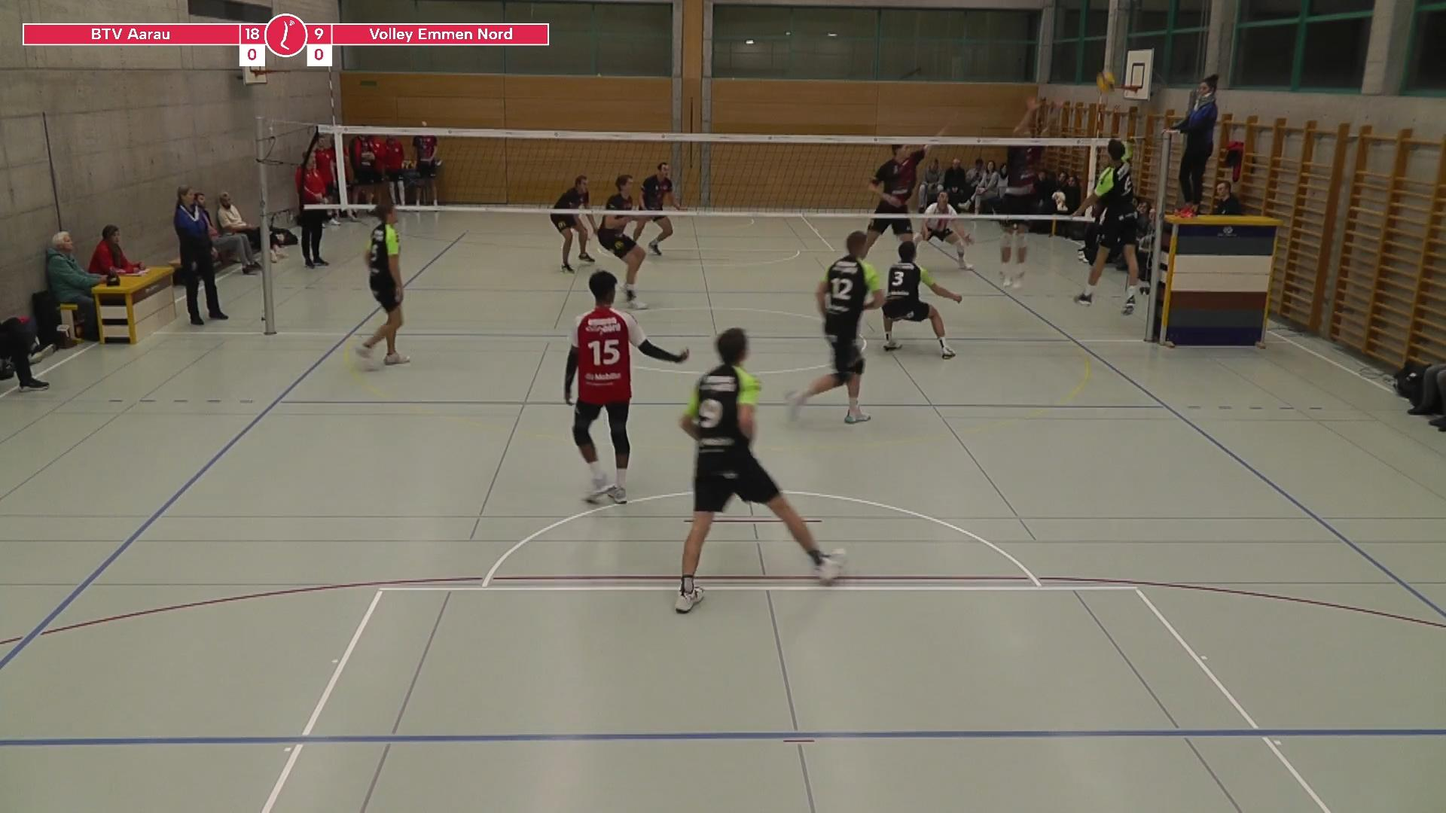Attack: (1064, 107, 1145, 312)
Block: (854, 112, 944, 290), (987, 85, 1060, 294)
Player: (675, 327, 844, 613), (564, 271, 688, 503), (787, 232, 883, 423), (882, 243, 961, 358), (356, 201, 409, 367), (596, 175, 646, 309), (918, 191, 973, 270), (551, 214, 593, 272), (642, 163, 682, 212)
ball: (1092, 69, 1117, 94)
